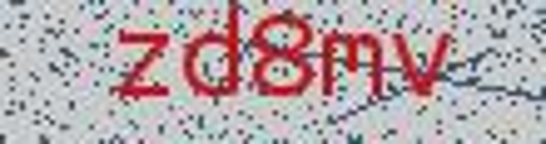8: (249, 11, 315, 108)
d: (178, 1, 246, 105)
m: (318, 25, 386, 110)
v: (388, 20, 458, 103)
z: (100, 19, 174, 113)
